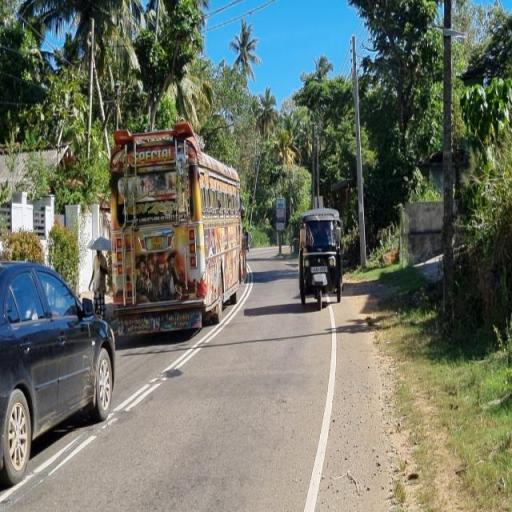double_white_line: (0, 282, 251, 506)
